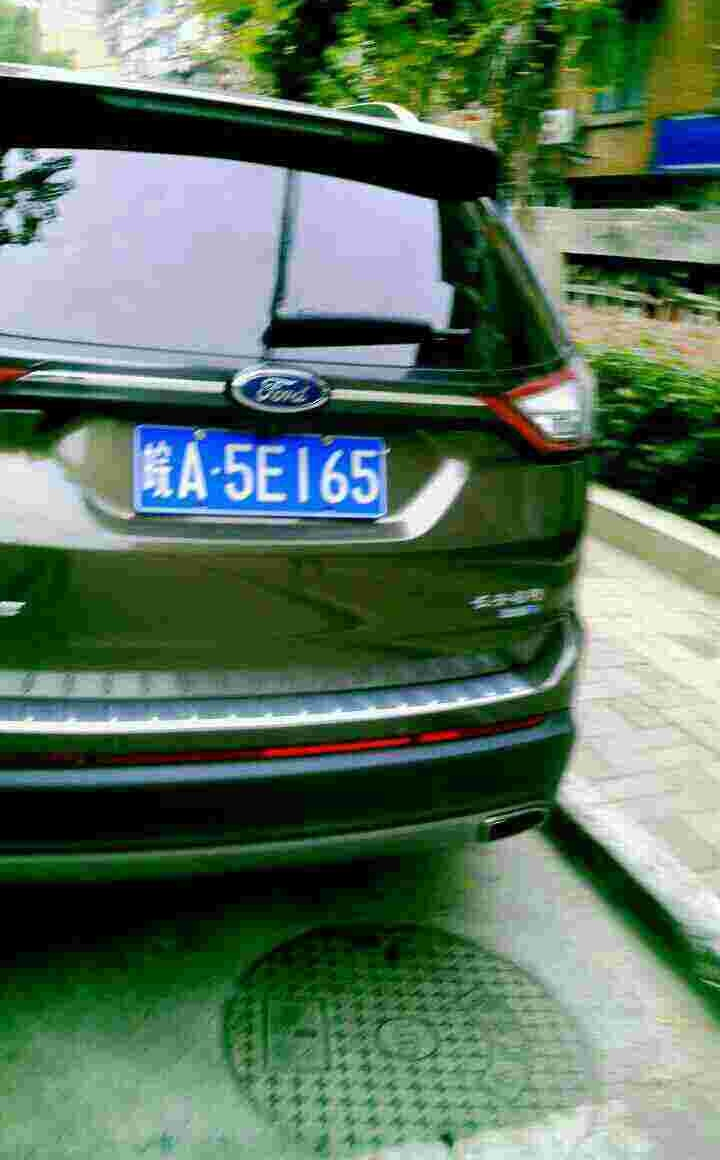license_plate: (132, 427, 389, 524)
